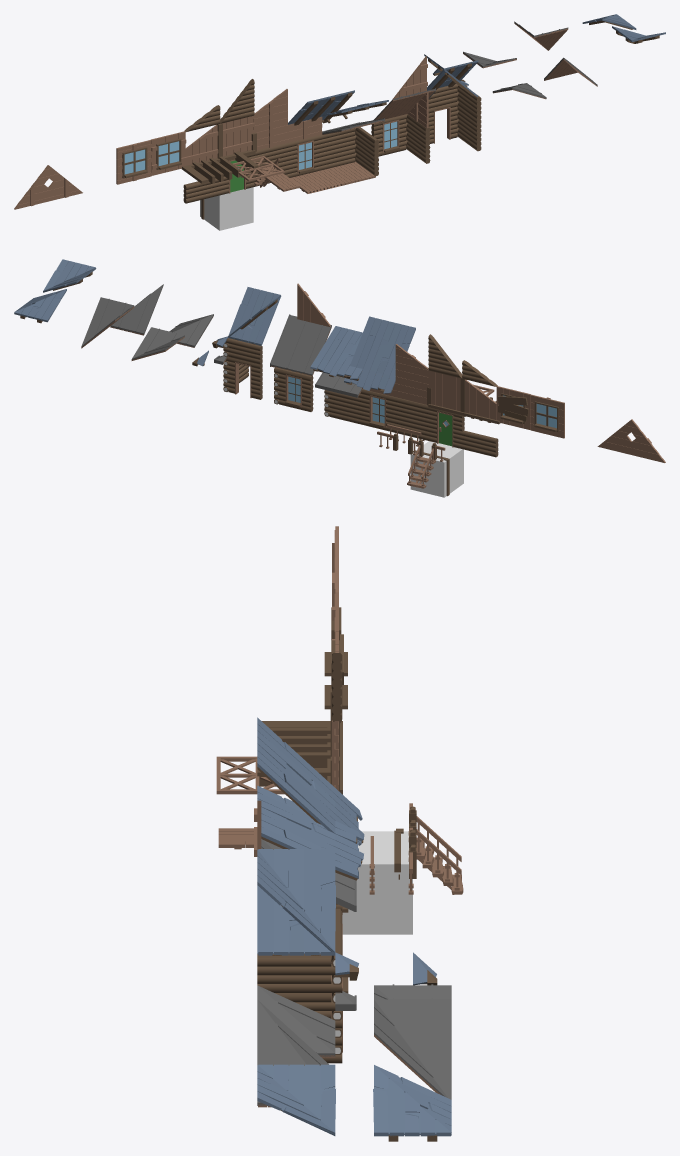
The model's file is Modular Cabin Sections.fbx.
The picture shows the model from 3 angles, top to bottom: view 1: azimuth 30°, elevation 25°; view 2: azimuth 150°, elevation 25°; view 3: azimuth 270°, elevation 25°; orthographic projection. The views are drawn at different scales.
Visible parts, largest first — view 1: Log Wall Corner, Log Wall Corner Window, Stone Foundation, Log Wall Corner Door, Horizontal Plank Wall Window, Horizontal Plank Wall Peak, Vertical Plank Wall Window, Log Wall Window, Horizontal Plank Wall, Vertical Plank Wall, Log Wall Corner Half, Log Wall Angled (+23 smaller); view 2: Stone Foundation, Tin Roof, Wooden Roof, Log Wall Corner Window, Horizontal Plank Wall Window, Horizontal Plank Wall Peak, Log Wall Corner Door, Log Wall Window, Horizontal Plank Wall, Log Wall, Wooden Roof Inside Corner, Tin Roof Inside Corner (+27 smaller); view 3: Tin Roof Inside Corner, Wooden Roof Inside Corner, Stone Foundation, Wooden Roof Shallow Outside Corner, Wooden Roof Shallow Inside Corner, Log Wall Corner Half, Wooden Roof Outside Corner, Wooden Roof, Tin Roof Outside Corner, Tin Roof Shallow Outside Corner, Wooden Roof Shallow, Porch Stairs (+7 smaller).
Part boxes in pixels (x1=…): Log Wall Corner: x1=322, y1=127, x2=378, y2=176; Log Wall Corner Window: x1=371, y1=114, x2=430, y2=163; Stone Foundation: x1=200, y1=187, x2=253, y2=230; Log Wall Corner Door: x1=428, y1=101, x2=481, y2=151; Horizontal Plank Wall Window: x1=116, y1=140, x2=151, y2=184; Horizontal Plank Wall Peak: x1=14, y1=165, x2=82, y2=209; Vertical Plank Wall Window: x1=151, y1=131, x2=186, y2=175; Log Wall Window: x1=288, y1=134, x2=322, y2=177; Horizontal Plank Wall: x1=253, y1=107, x2=287, y2=150; Vertical Plank Wall: x1=222, y1=116, x2=254, y2=156; Log Wall Corner Half: x1=428, y1=84, x2=481, y2=115; Log Wall Angled: x1=220, y1=79, x2=254, y2=123; Stone Foundation: x1=410, y1=441, x2=463, y2=497; Tin Roof: x1=278, y1=319, x2=331, y2=375; Wooden Roof: x1=363, y1=320, x2=415, y2=376; Log Wall Corner Window: x1=274, y1=367, x2=313, y2=411; Horizontal Plank Wall Window: x1=530, y1=394, x2=564, y2=438; Horizontal Plank Wall Peak: x1=597, y1=419, x2=665, y2=462; Log Wall Corner Door: x1=223, y1=356, x2=262, y2=399; Log Wall Window: x1=361, y1=389, x2=395, y2=432; Horizontal Plank Wall: x1=395, y1=362, x2=429, y2=404; Log Wall: x1=394, y1=397, x2=428, y2=440; Wooden Roof Inside Corner: x1=228, y1=287, x2=280, y2=337; Tin Roof Inside Corner: x1=81, y1=297, x2=134, y2=348; Tin Roof Inside Corner: x1=374, y1=998, x2=451, y2=1099; Wooden Roof Inside Corner: x1=257, y1=849, x2=335, y2=953; Stone Foundation: x1=342, y1=831, x2=412, y2=934; Wooden Roof Shallow Outside Corner: x1=373, y1=1065, x2=451, y2=1141; Wooden Roof Shallow Inside Corner: x1=257, y1=1064, x2=335, y2=1135; Log Wall Corner Half: x1=257, y1=923, x2=342, y2=992; Wooden Roof Outside Corner: x1=257, y1=869, x2=335, y2=955; Wooden Roof: x1=257, y1=717, x2=335, y2=820; Tin Roof Outside Corner: x1=257, y1=999, x2=328, y2=1107; Tin Roof Shallow Outside Corner: x1=257, y1=985, x2=335, y2=1057; Wooden Roof Shallow: x1=257, y1=785, x2=335, y2=848; Porch Stairs: x1=416, y1=816, x2=463, y2=894.
Size of the model in its own units: 3702 by 800 by 635.
